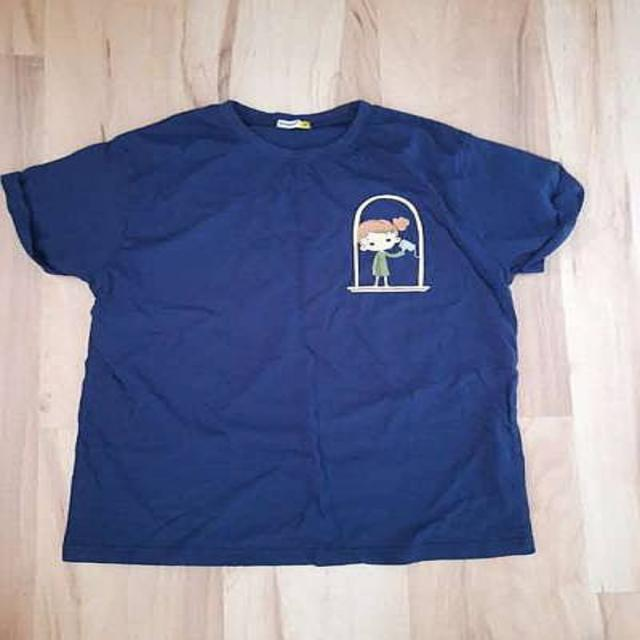T_SHIRT: (5, 91, 598, 572)
